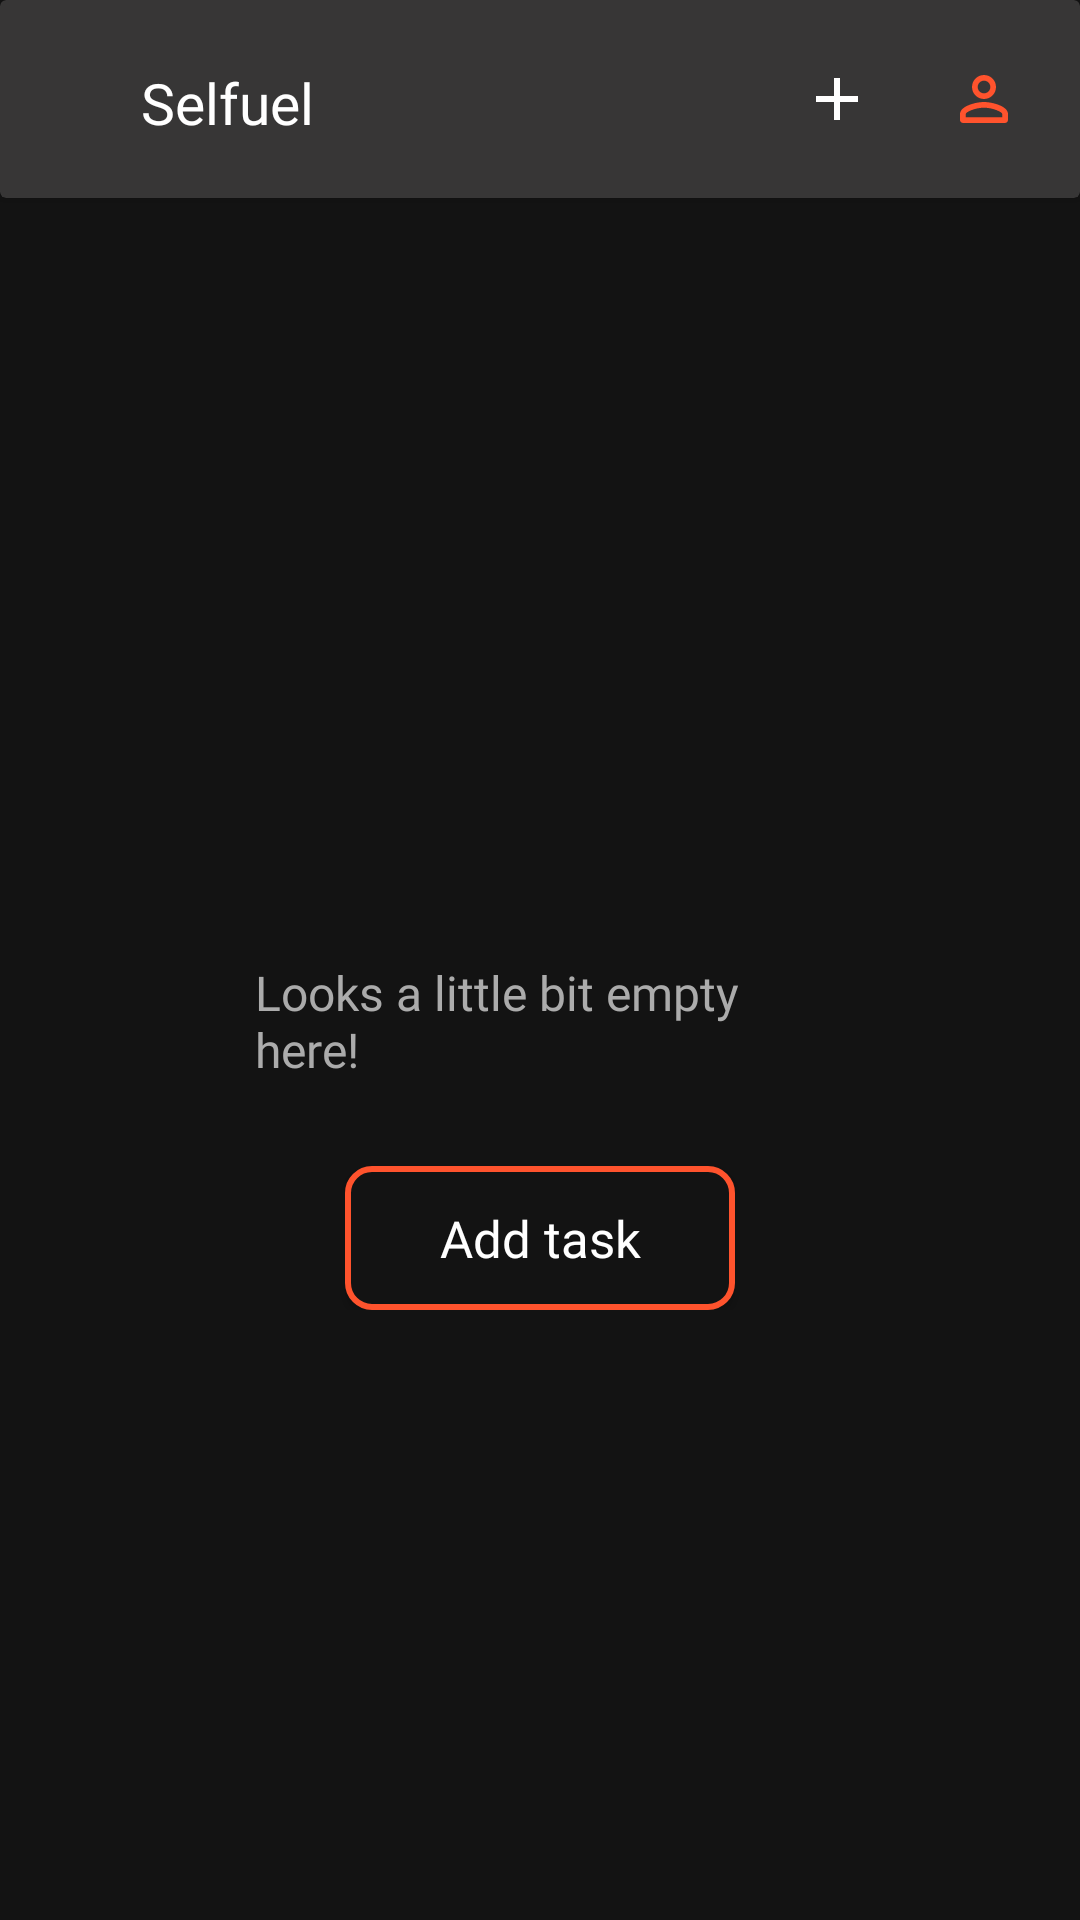

Named icons in this screenshot (1080px x 1920px) and their bounding boxes, box=[x1, y1, x2, y2]:
add: box=[816, 78, 858, 120]
person: box=[960, 75, 1008, 123]
